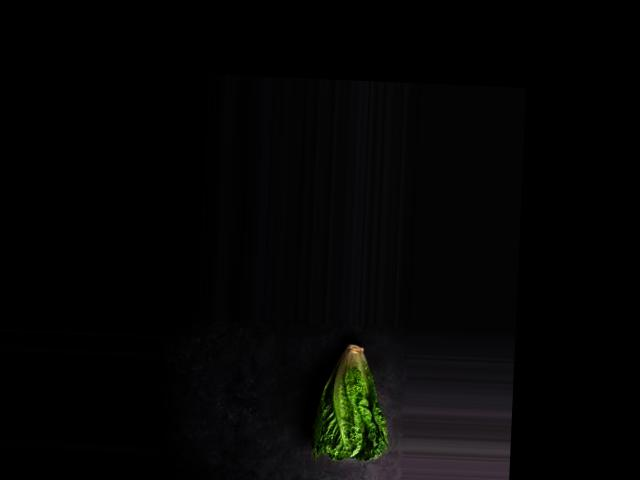lettuce: (188, 335, 342, 480)
